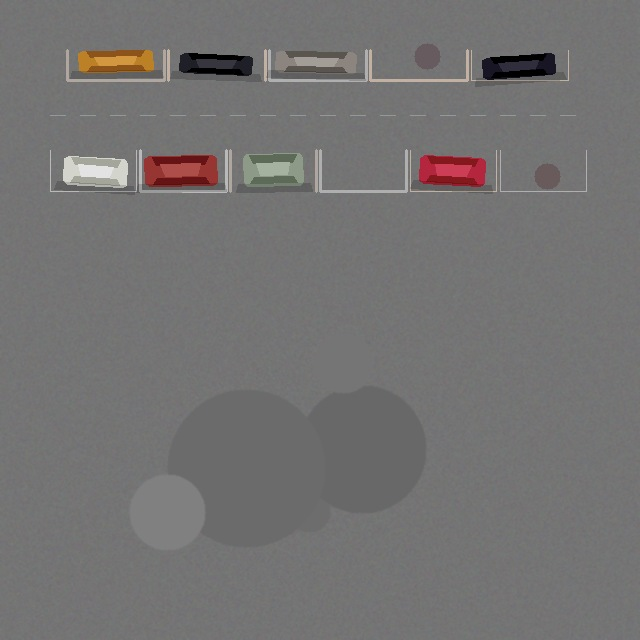space-empty: (320, 150, 406, 191), (500, 150, 586, 191), (370, 50, 467, 80)
space-occupied: (50, 150, 136, 191), (140, 150, 226, 191), (230, 150, 316, 191), (410, 150, 496, 191), (67, 50, 164, 80), (168, 50, 265, 80), (269, 50, 366, 80), (471, 50, 568, 80)
